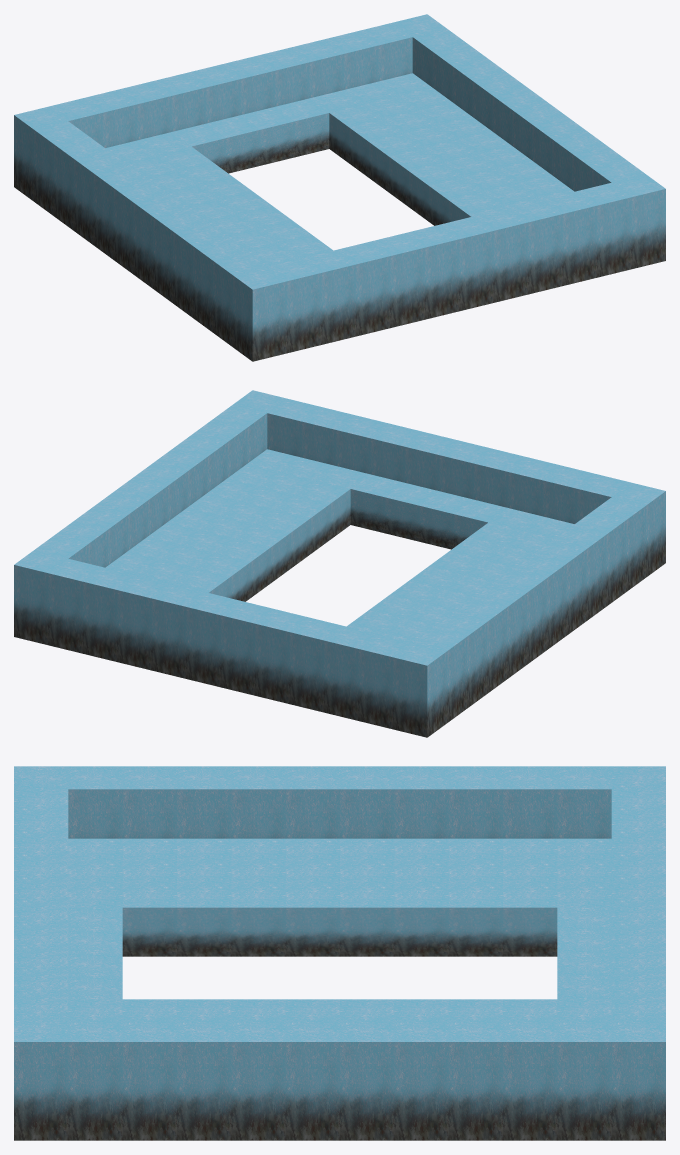
Rendered from Stage_Block_3_2_3F.fbx.
3 views of the same model, one above another, from view 1: azimuth 30°, elevation 25°; view 2: azimuth 150°, elevation 25°; view 3: azimuth 270°, elevation 25° (orthographic). The views are drawn at different scales.
Parts seen in each view (by area): view 1: group17_ni4_polySurface78; view 2: group17_ni4_polySurface78; view 3: group17_ni4_polySurface78.
Boxes of the visible parts, left/top/right/bottom form: group17_ni4_polySurface78: left=14, top=14, right=665, bottom=361; group17_ni4_polySurface78: left=14, top=390, right=665, bottom=737; group17_ni4_polySurface78: left=14, top=766, right=665, bottom=1140.
Bounding box in the file's own units: 2400 × 400 × 2400.
Materials: 1 (1 with a texture image).
